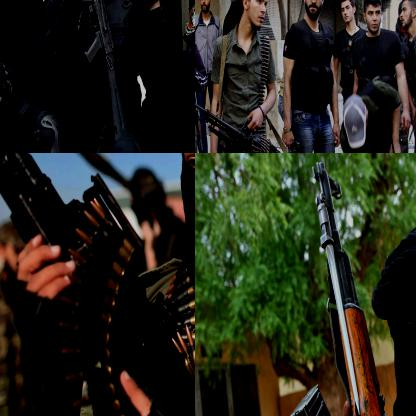rifle: (0, 153, 194, 415), (289, 158, 414, 415), (45, 0, 133, 144), (195, 84, 309, 152), (381, 110, 412, 152)
